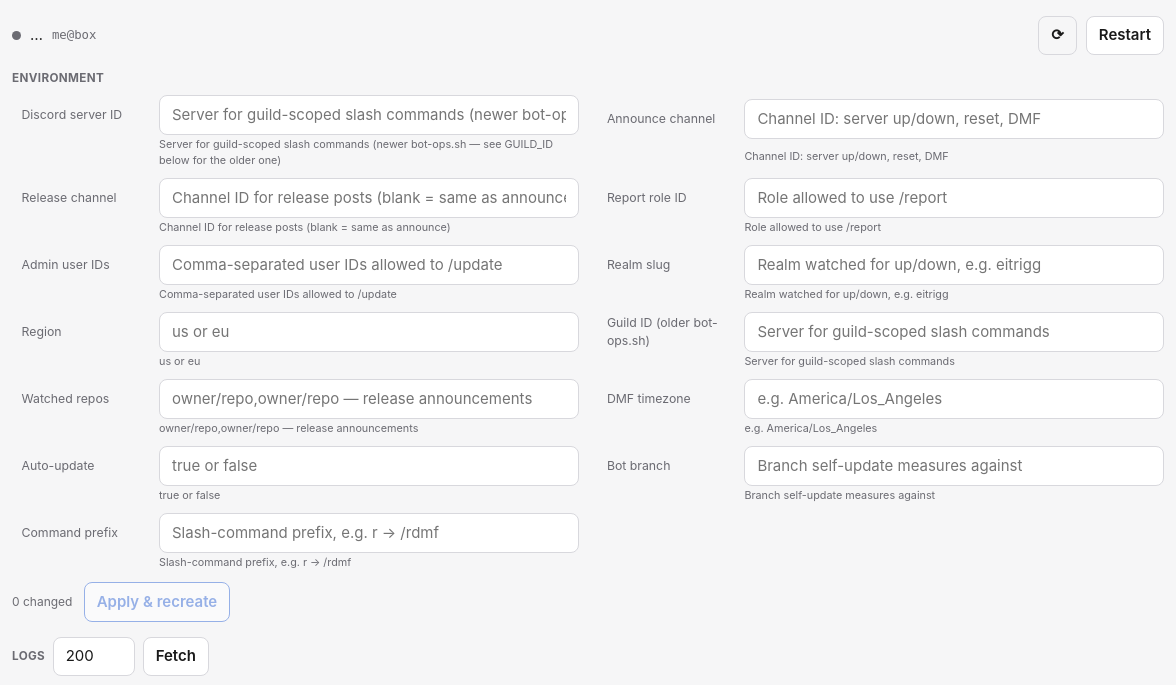
Test case: BotOps › enables Apply only after an edit and sends just the changed key for the target
The image size is (1176, 685).
Expected: the button "Apply & recreate" is disabled, [84,582,230,622]
Type "shuhalo" into the field named "Realm slug" at (954, 265), box [744,245,1164,285]
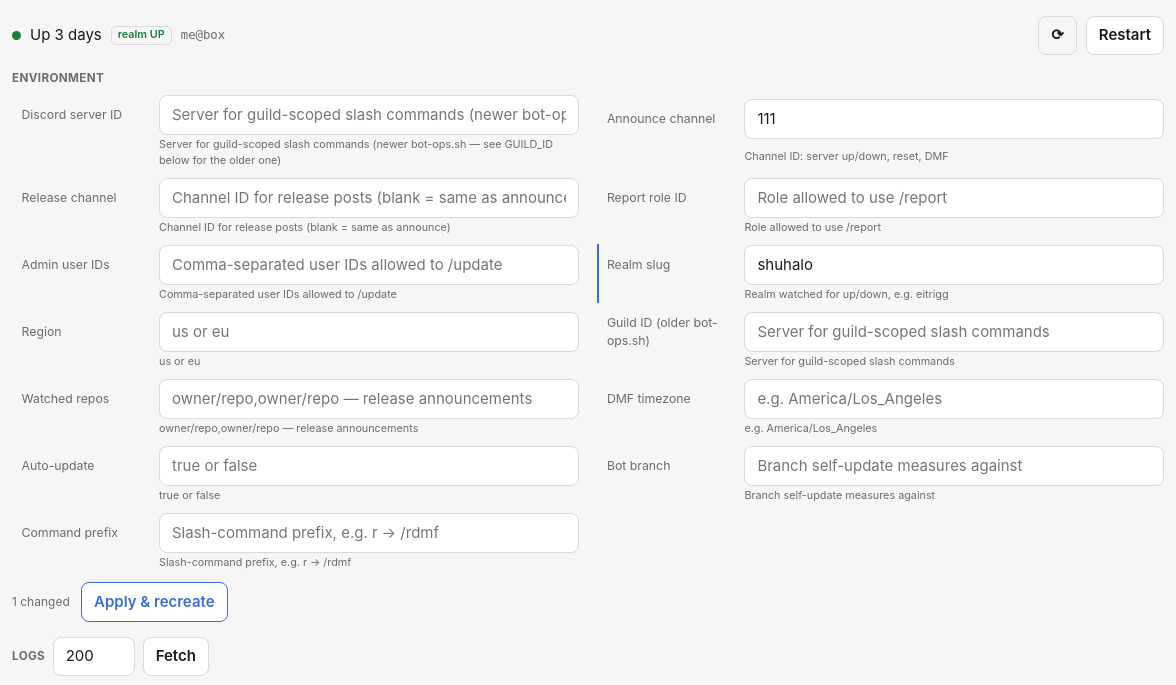
Now the button "Apply & recreate" is enabled
Click the button "Apply & recreate" at (154, 602), box [81,582,228,622]
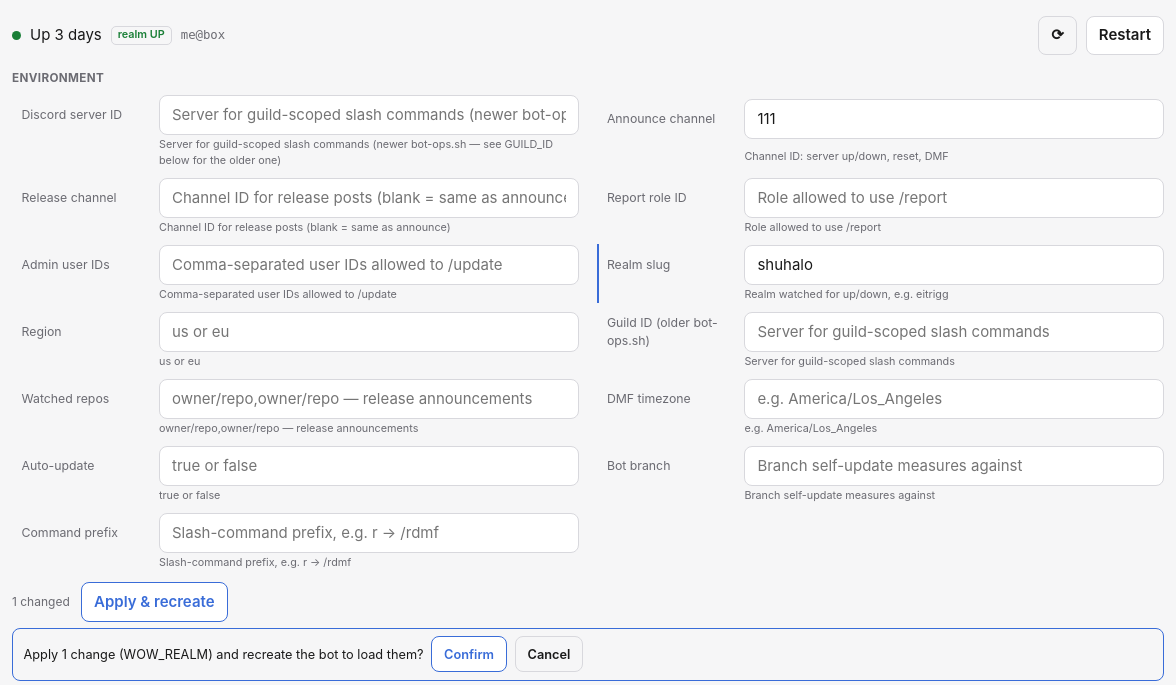
Click the button "Confirm" at (469, 654), box [431,636,507,672]
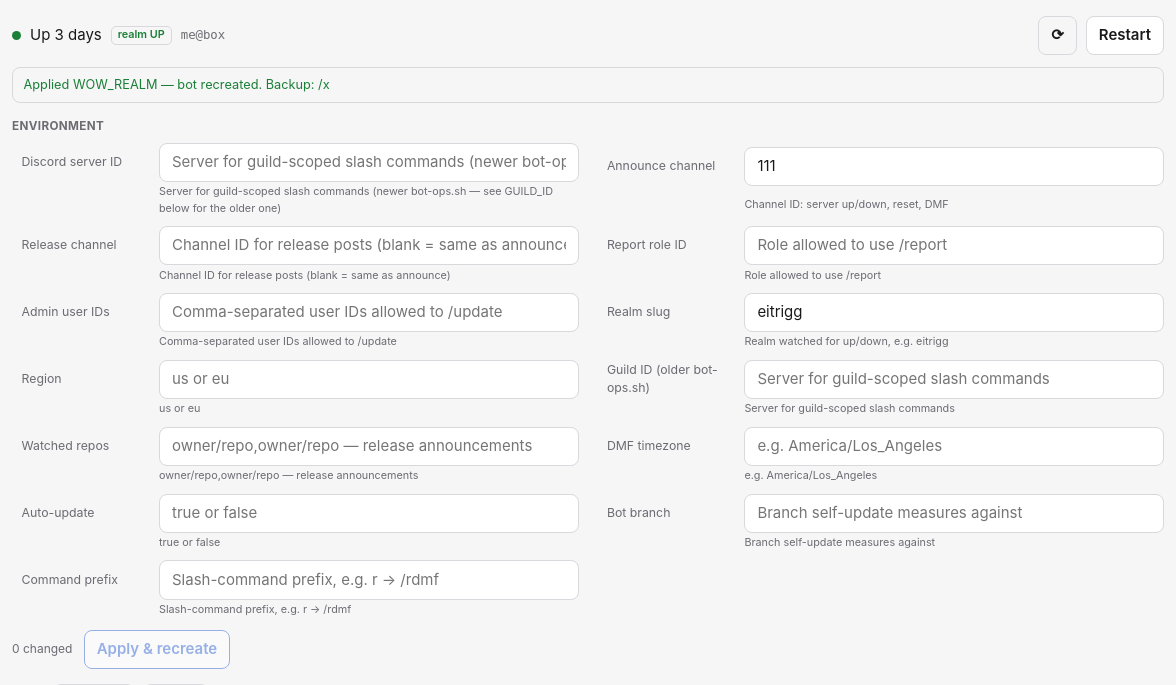
Now the text "Applied WOW_REALM — bot recreated. Backup: /x" is shown, box [12,66,1164,103]
